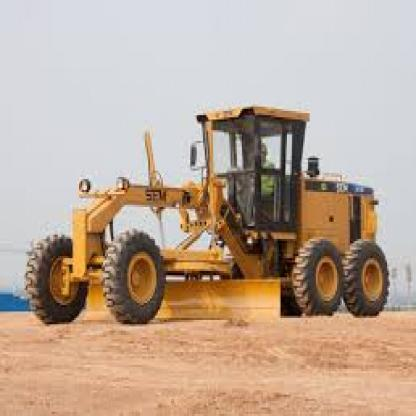bull_dozer/loader/grader: (21, 96, 387, 333)
